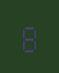eight: (19, 19, 37, 53)
